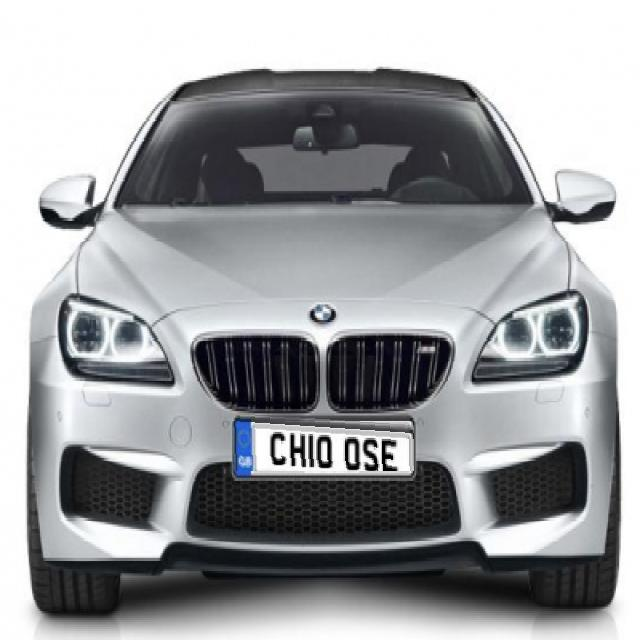licence: (232, 413, 414, 471)
